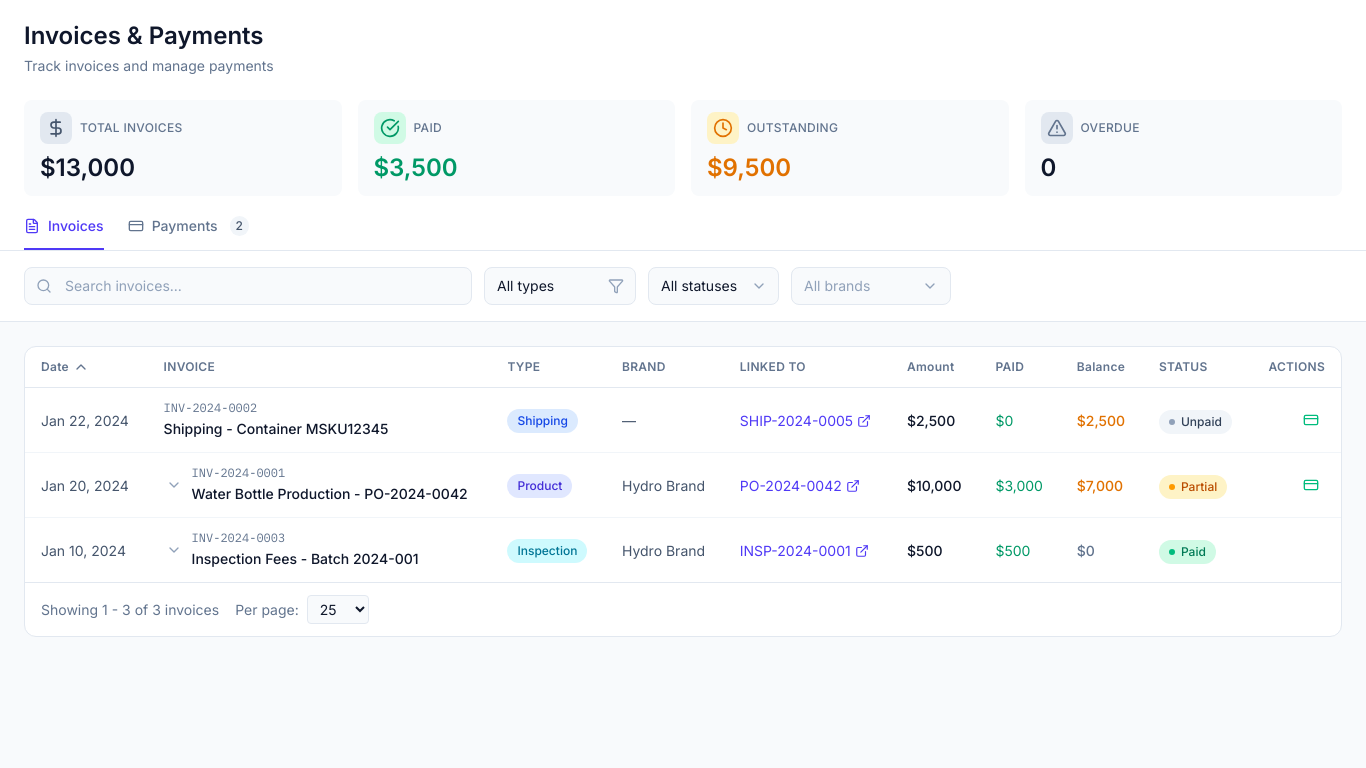
it: InvoicesPaymentsView › Filtering › filters invoices by status
This screenshot has width=1366, height=768.
# Find and change the status filter
Step 1. Select "Paid" in the 2nd dropdown → (714, 286), box [648,267,779,305]
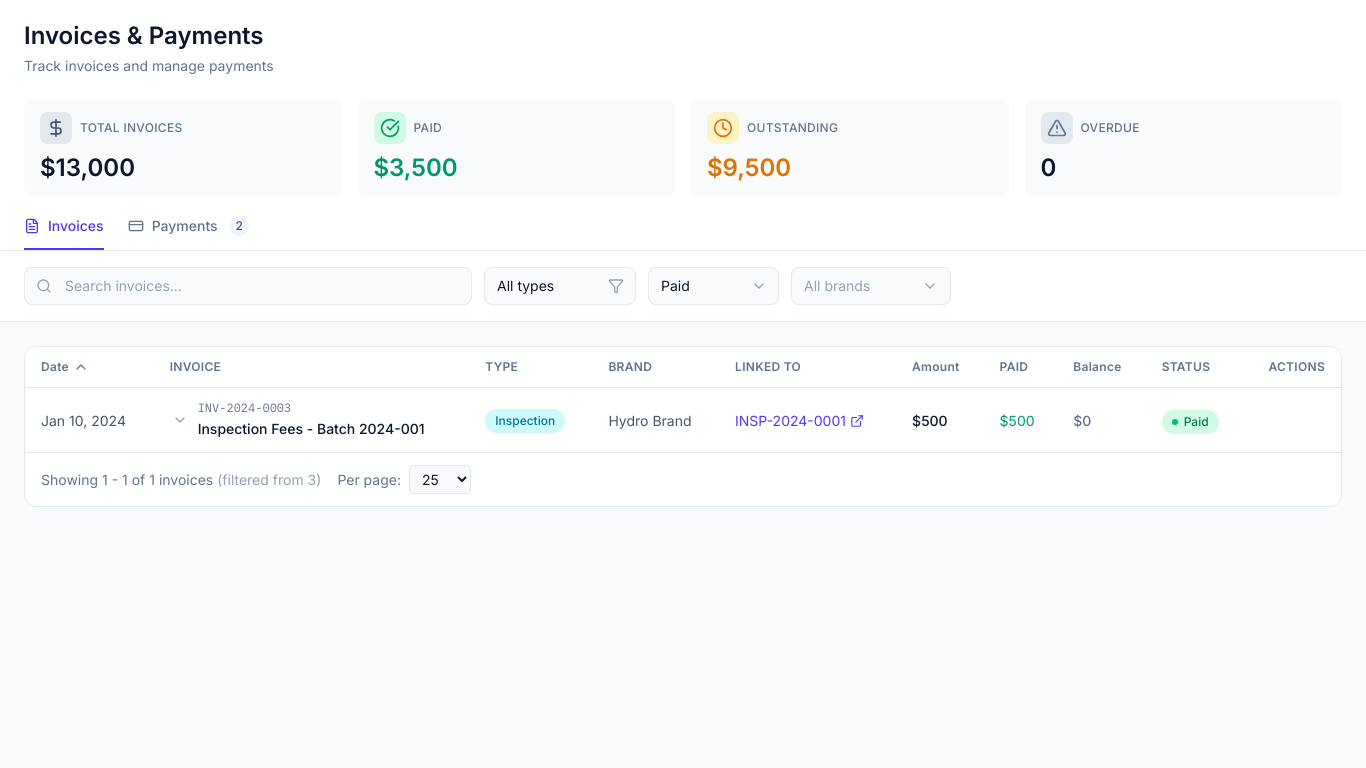
Check: the text "Inspection Fees - Batch 2024-001" is shown, box [198,420,424,437]
Check: the text "Water Bottle Production - PO-2024-0042" is gone
